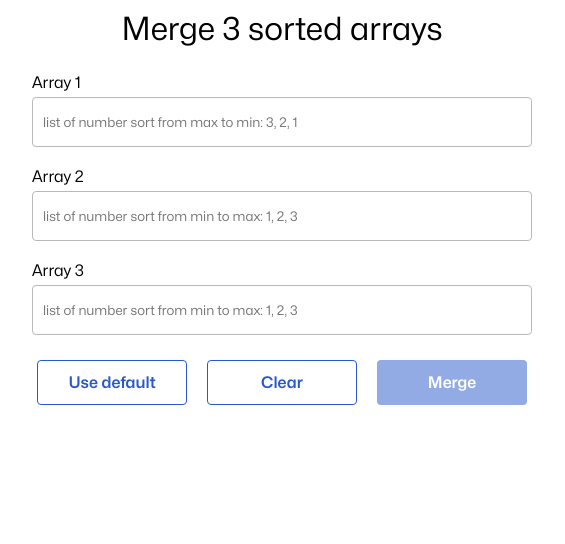
it: <Home /> › use default and merge
The width and height of the screenshot is (565, 544).
Expected: the field with id "array1-input" is empty, [32,97,532,147]
Expected: the field with id "array2-input" is empty, [32,191,532,241]
Click the button with id "use-default-button".
click(112, 382)  # box [37,360,187,405]
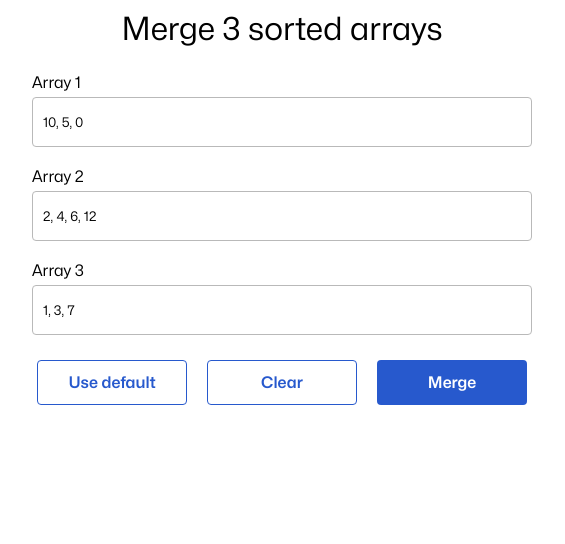
Expected: the field with id "array1-input" holds "10, 5, 0", [32,97,532,147]
Expected: the field with id "array2-input" holds "2, 4, 6, 12", [32,191,532,241]
Expected: the field with id "array3-input" holds "1, 3, 7", [32,285,532,335]
Click the button with id "merge-button".
click(452, 382)  # box [377,360,527,405]
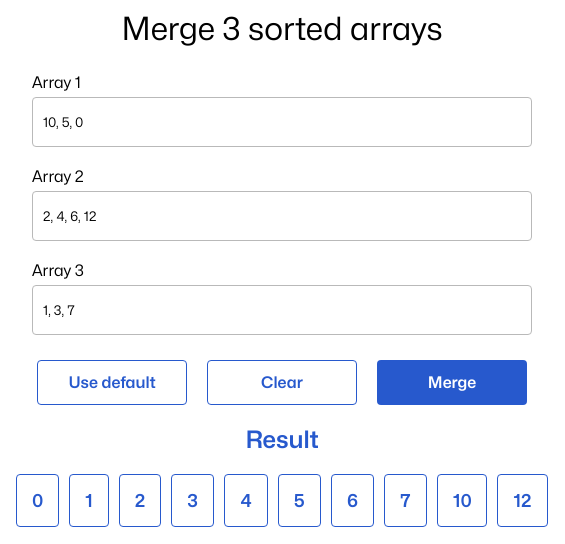
Expected: the text "Result" is shown, [245,425,319,454]
Expected: the text "1" is shown, [69,474,109,527]
Expected: the text "2" is shown, [119,474,161,527]
